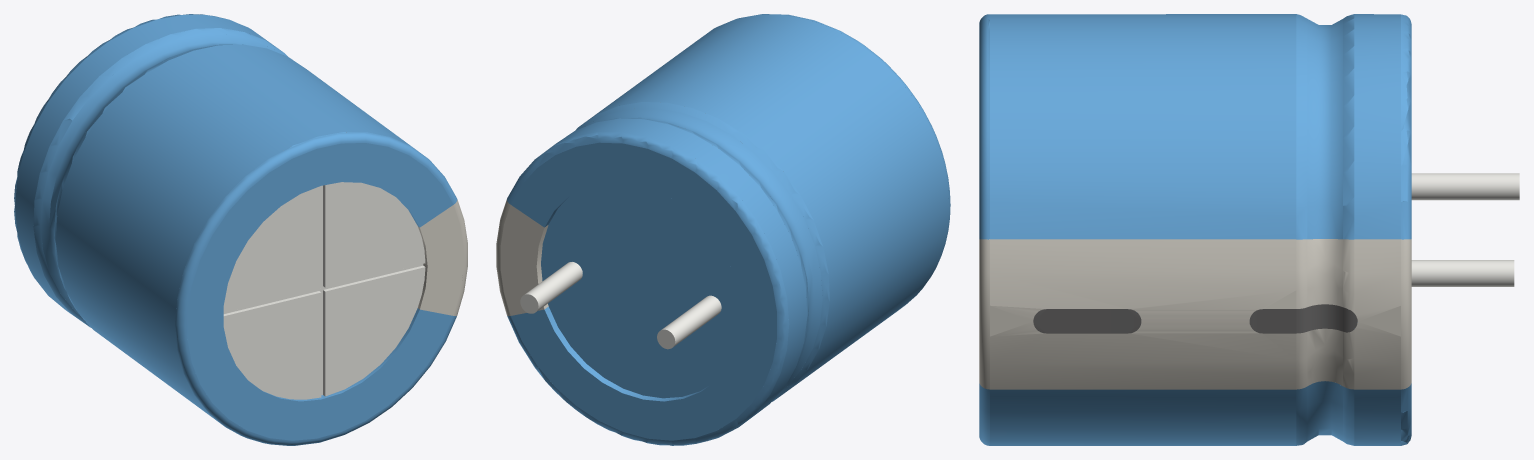
File: CP_Radial_D8.0mm_P3.80mm.glb
3 renders of one model, left to right at view 1: azimuth 30°, elevation 25°; view 2: azimuth 150°, elevation 25°; view 3: azimuth 270°, elevation 25°, orthographic. The views are drawn at different scales.
Parts seen in each view (by area): view 1: Shape_IndexedFaceSet.025, Shape_IndexedFaceSet.032, Shape_IndexedFaceSet.036, Shape_IndexedFaceSet.042, Shape_IndexedFaceSet.038, Shape_IndexedFaceSet.011, Shape_IndexedFaceSet.045, Shape_IndexedFaceSet.028, Shape_IndexedFaceSet.017, Shape_IndexedFaceSet.033, Shape_IndexedFaceSet.013, Shape_IndexedFaceSet.021 (+4 smaller); view 2: Shape_IndexedFaceSet.025, Shape_IndexedFaceSet.002, Shape_IndexedFaceSet.006, Shape_IndexedFaceSet.011, Shape_IndexedFaceSet.009, Shape_IndexedFaceSet.017, Shape_IndexedFaceSet.021, Shape_IndexedFaceSet.007, Shape_IndexedFaceSet.005, Shape_IndexedFaceSet.001, Shape_IndexedFaceSet.003, Shape_IndexedFaceSet.013 (+2 smaller); view 3: Shape_IndexedFaceSet.025, Shape_IndexedFaceSet.027, Shape_IndexedFaceSet.011, Shape_IndexedFaceSet.017, Shape_IndexedFaceSet.012, Shape_IndexedFaceSet.013, Shape_IndexedFaceSet.021, Shape_IndexedFaceSet.028, Shape_IndexedFaceSet.009, Shape_IndexedFaceSet.005, Shape_IndexedFaceSet.001, Shape_IndexedFaceSet.031 (+10 smaller).
Part boxes in pixels (x1,y1,x2,y2): Shape_IndexedFaceSet.025: [56, 44, 417, 423]; Shape_IndexedFaceSet.032: [187, 143, 453, 440]; Shape_IndexedFaceSet.036: [325, 267, 425, 396]; Shape_IndexedFaceSet.042: [223, 292, 321, 399]; Shape_IndexedFaceSet.038: [325, 182, 425, 287]; Shape_IndexedFaceSet.011: [15, 15, 280, 320]; Shape_IndexedFaceSet.045: [223, 186, 321, 312]; Shape_IndexedFaceSet.028: [175, 132, 457, 445]; Shape_IndexedFaceSet.017: [40, 34, 277, 316]; Shape_IndexedFaceSet.033: [420, 205, 463, 315]; Shape_IndexedFaceSet.013: [33, 28, 287, 327]; Shape_IndexedFaceSet.021: [54, 44, 242, 328]; Shape_IndexedFaceSet.025: [582, 14, 949, 386]; Shape_IndexedFaceSet.002: [541, 182, 740, 398]; Shape_IndexedFaceSet.006: [511, 142, 776, 440]; Shape_IndexedFaceSet.011: [541, 118, 807, 425]; Shape_IndexedFaceSet.009: [507, 132, 789, 445]; Shape_IndexedFaceSet.017: [586, 108, 822, 390]; Shape_IndexedFaceSet.021: [575, 102, 829, 401]; Shape_IndexedFaceSet.007: [500, 205, 544, 315]; Shape_IndexedFaceSet.005: [661, 295, 721, 346]; Shape_IndexedFaceSet.001: [525, 262, 582, 311]; Shape_IndexedFaceSet.003: [544, 196, 708, 401]; Shape_IndexedFaceSet.013: [601, 117, 808, 399]; Shape_IndexedFaceSet.025: [990, 14, 1296, 445]; Shape_IndexedFaceSet.027: [990, 239, 1296, 389]; Shape_IndexedFaceSet.011: [1354, 14, 1400, 445]; Shape_IndexedFaceSet.017: [1307, 19, 1342, 441]; Shape_IndexedFaceSet.012: [1354, 239, 1400, 389]; Shape_IndexedFaceSet.013: [1343, 14, 1354, 445]; Shape_IndexedFaceSet.021: [1296, 14, 1307, 445]; Shape_IndexedFaceSet.028: [979, 14, 989, 445]; Shape_IndexedFaceSet.009: [1401, 14, 1411, 445]; Shape_IndexedFaceSet.005: [1411, 173, 1519, 200]; Shape_IndexedFaceSet.001: [1411, 260, 1514, 286]; Shape_IndexedFaceSet.031: [1033, 309, 1141, 333].
Bounding box in the file's own units: 3.15 × 3.15 × 3.94.
